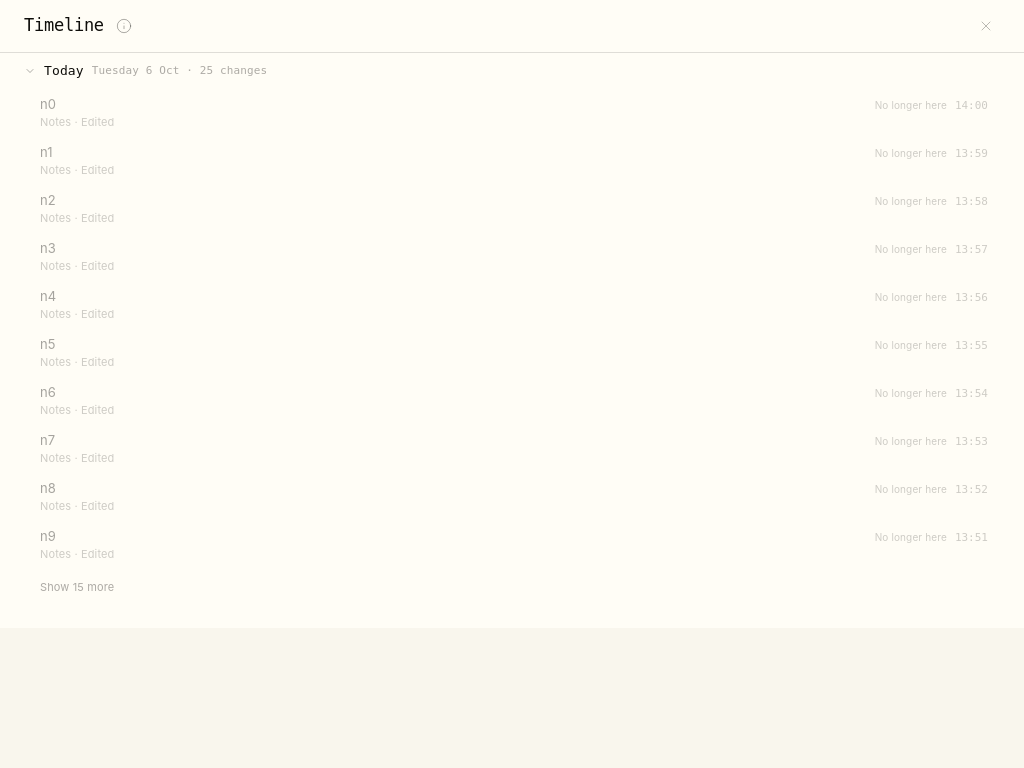
Test case: TimelineView › shows ten rows of a day and loads more on request
Check: the text "n0" is shown, box [40, 96, 56, 112]
Click the button "Show 15 more".
click(77, 587)  # box [34, 576, 120, 598]
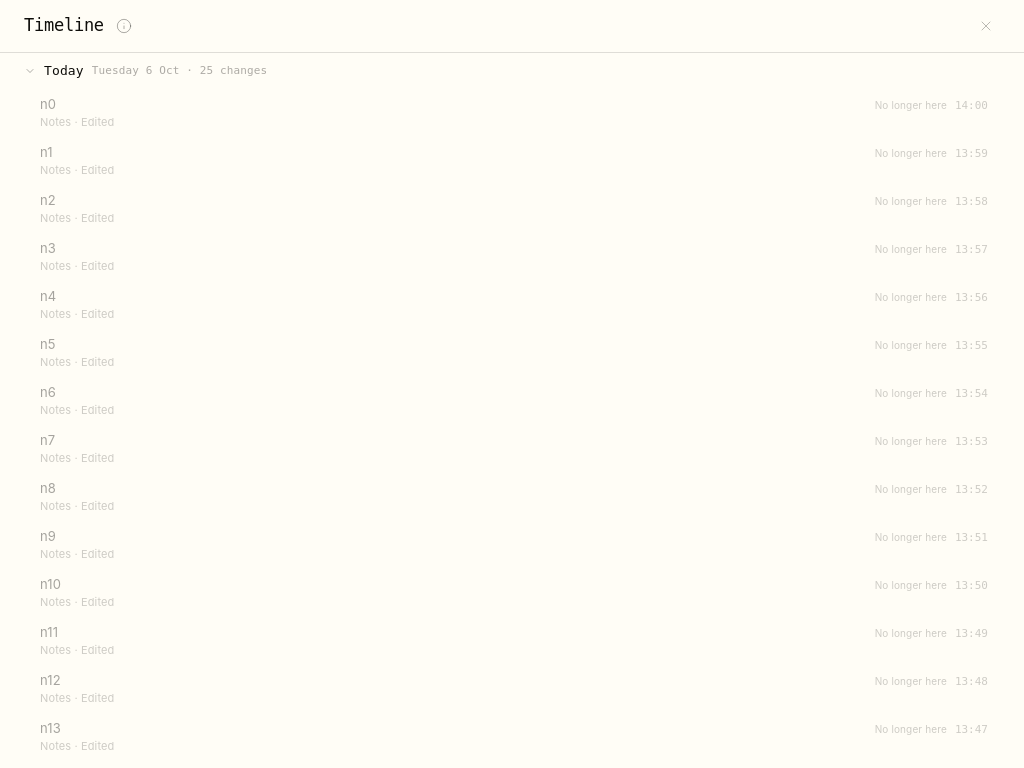
Check: the button "more" is gone
